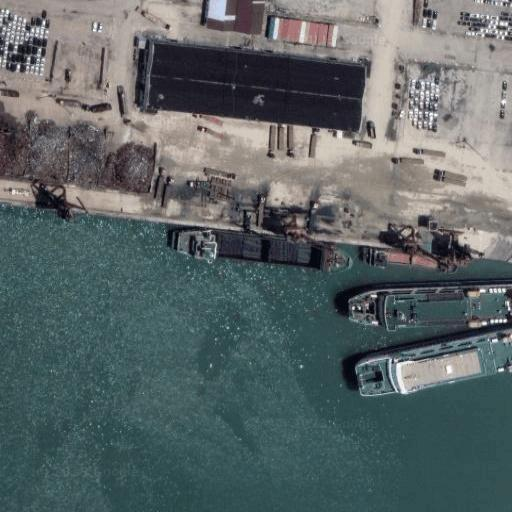building: (144, 39, 363, 96), (142, 72, 359, 129), (263, 12, 337, 48), (235, 0, 264, 35), (137, 37, 147, 50)
